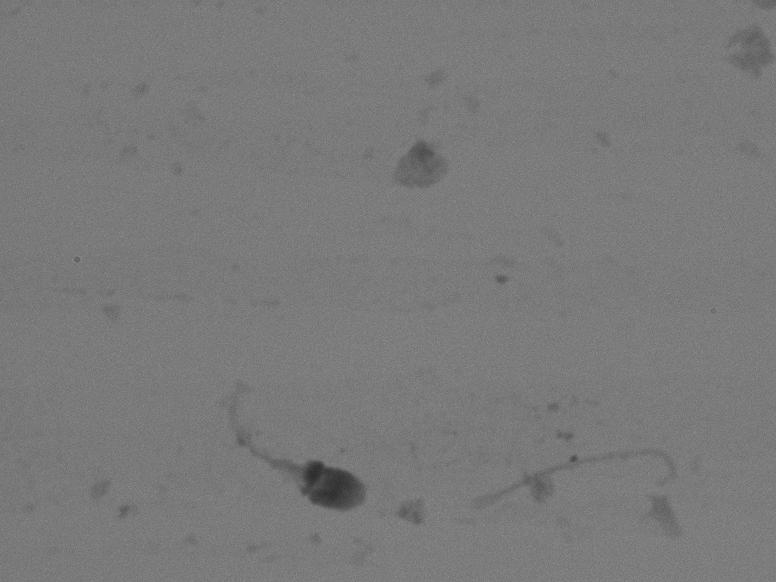Abnormal: (183, 345, 388, 551)
